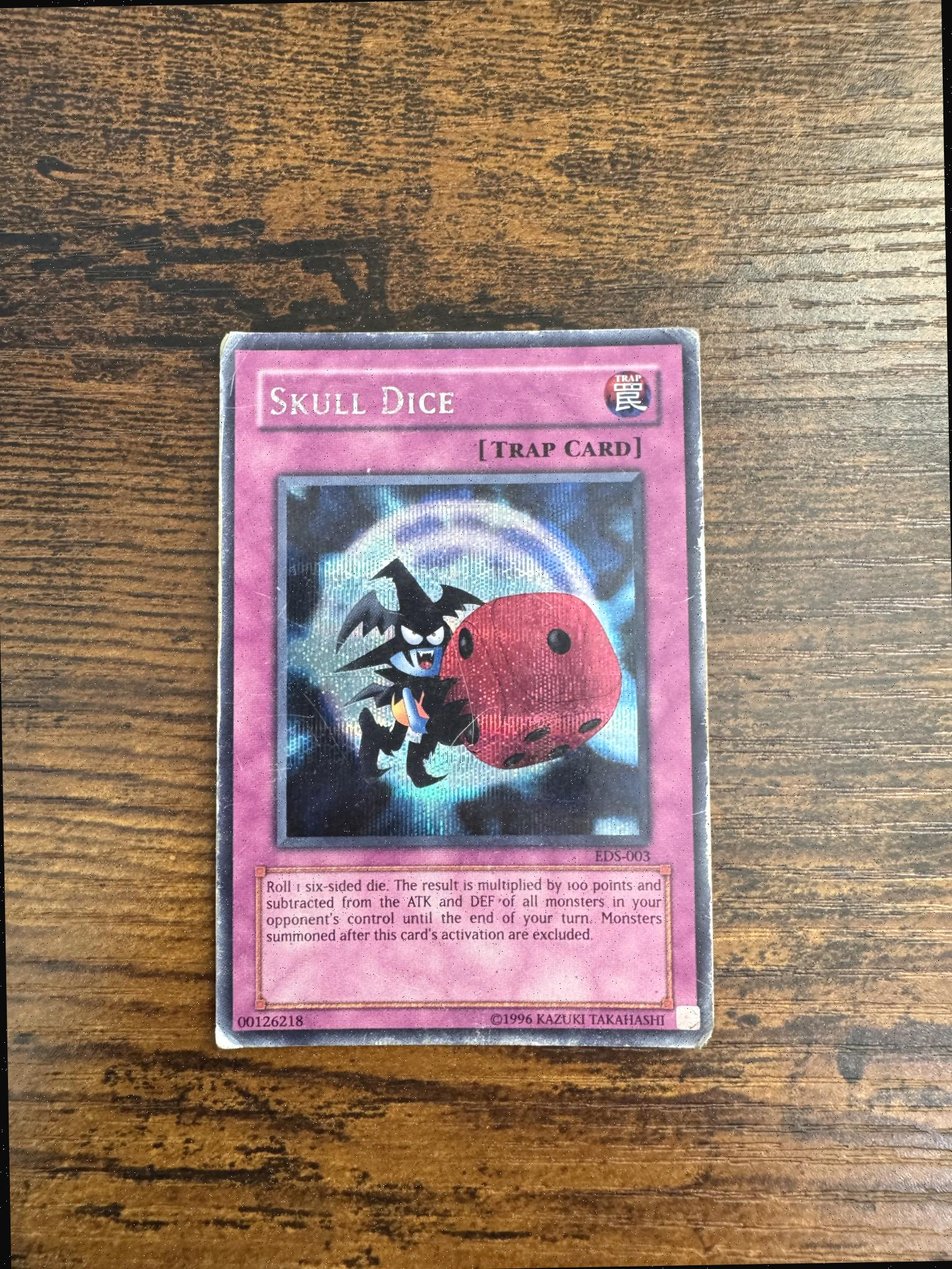card-2UtV: (215, 327, 714, 1050)
